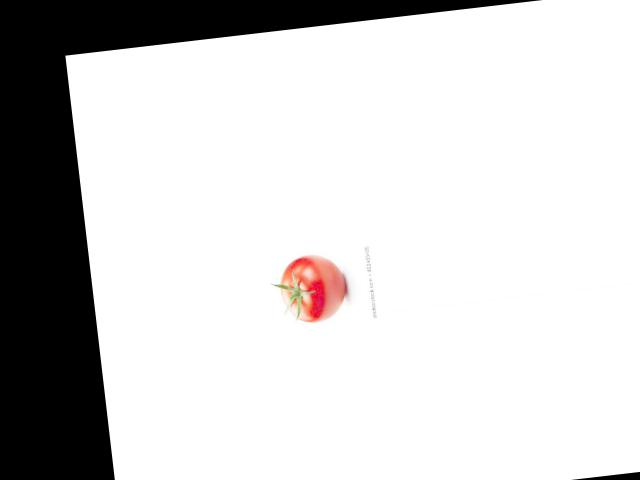tomato: (277, 251, 349, 324)
